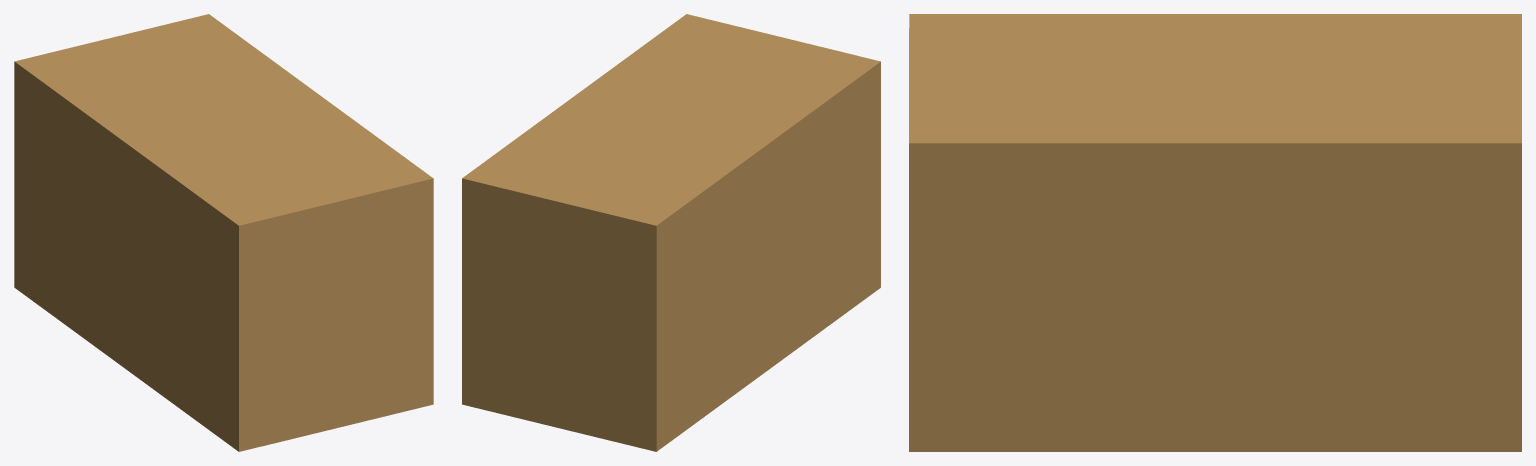
3 renders of one model, left to right at view 1: azimuth 30°, elevation 25°; view 2: azimuth 150°, elevation 25°; view 3: azimuth 270°, elevation 25°, orthographic. The views are drawn at different scales.
Visible parts, largest first — view 1: GAP-29-R-king_stud-p5; view 2: GAP-29-R-king_stud-p5; view 3: GAP-29-R-king_stud-p5.
Part boxes in pixels (x1,y1,x2,y2): GAP-29-R-king_stud-p5: (14,14,433,451); GAP-29-R-king_stud-p5: (462,14,880,451); GAP-29-R-king_stud-p5: (909,14,1521,451).
Size of the model in its own units: 0.045 by 0.05 by 0.09.
